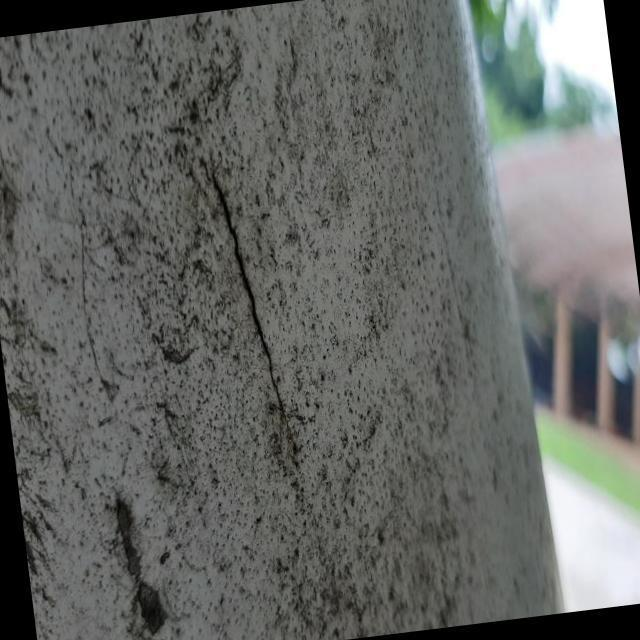defect: (198, 143, 298, 460)
